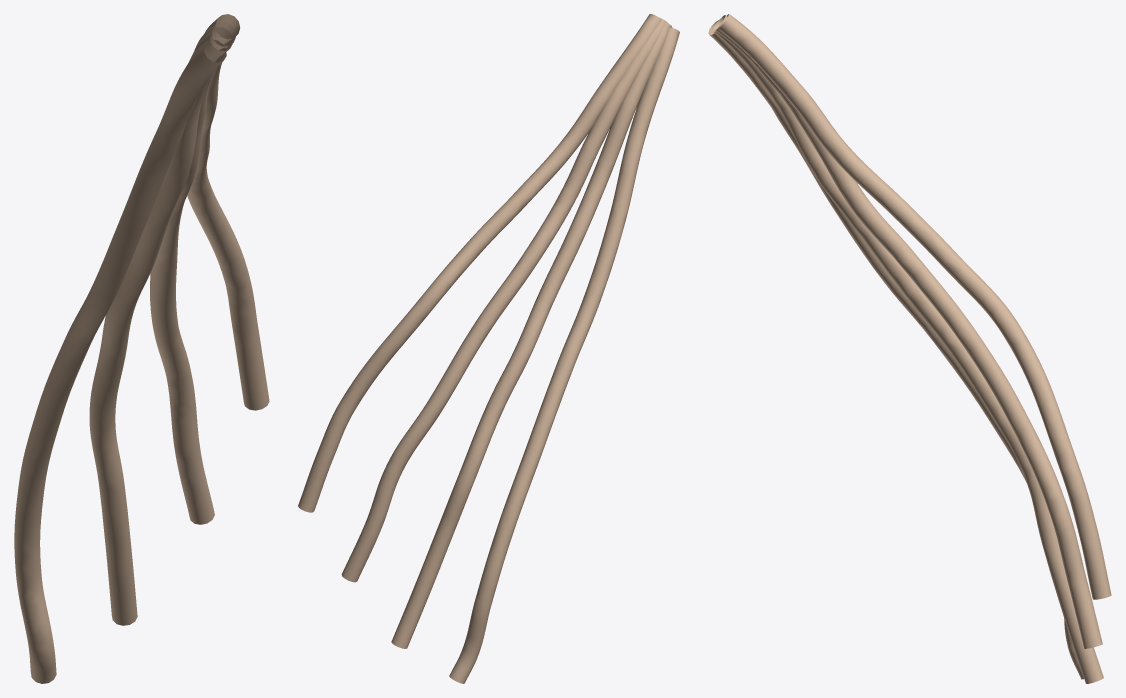
3 views of the same model, side by side, from view 1: azimuth 30°, elevation 25°; view 2: azimuth 150°, elevation 25°; view 3: azimuth 270°, elevation 25° (orthographic). The views are drawn at different scales.
Visible parts, largest first — view 1: 左侧趾长伸肌腱; view 2: 左侧趾长伸肌腱; view 3: 左侧趾长伸肌腱.
Boxes of the visible parts, bbox=[...] form: 左侧趾长伸肌腱: bbox=[14, 14, 269, 683]; 左侧趾长伸肌腱: bbox=[298, 14, 679, 683]; 左侧趾长伸肌腱: bbox=[708, 14, 1111, 683].
Bounding box in the file's own units: 0.0841 × 0.2129 × 0.121.
